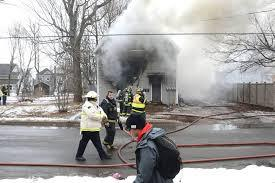smoke: (68, 0, 275, 108)
